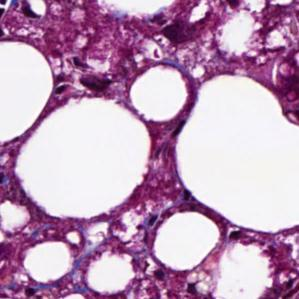inflammation: (131, 208, 162, 246), (268, 265, 299, 299)
